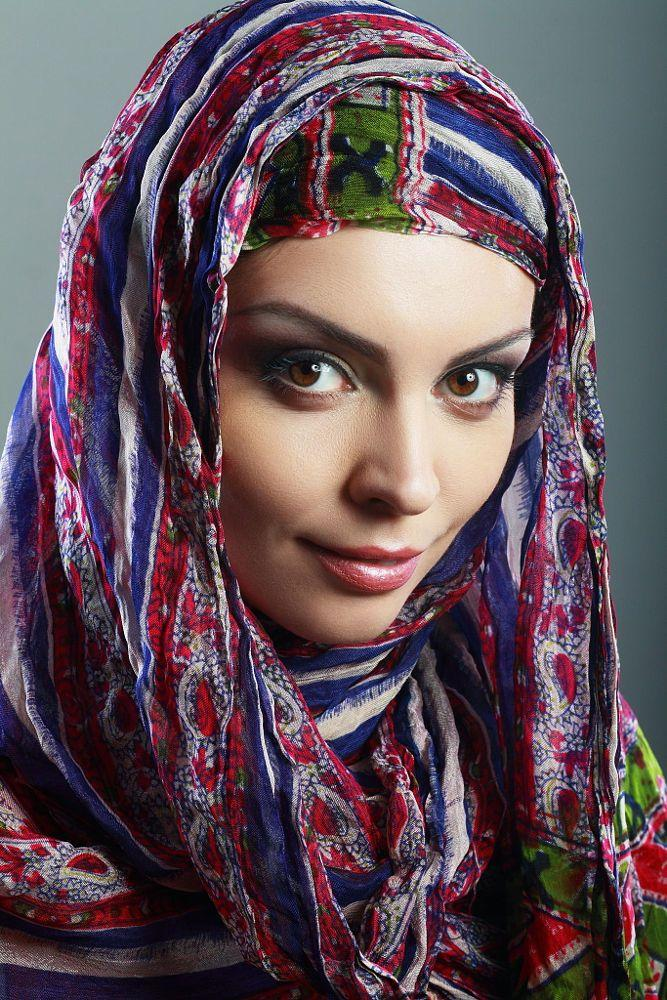scarf-kerchief: (10, 12, 666, 818)
